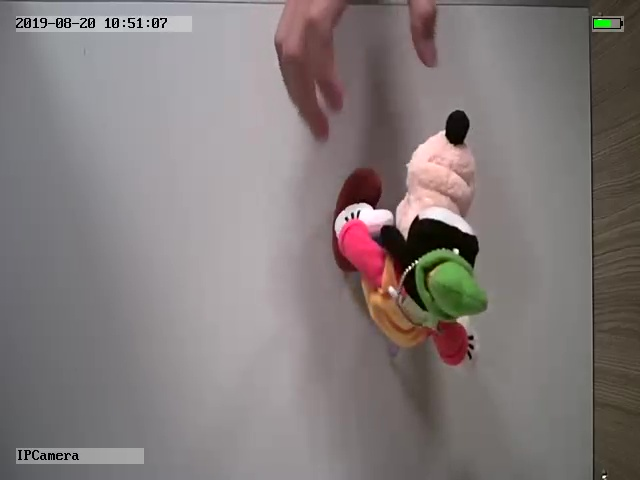goofy: (332, 109, 491, 371)
